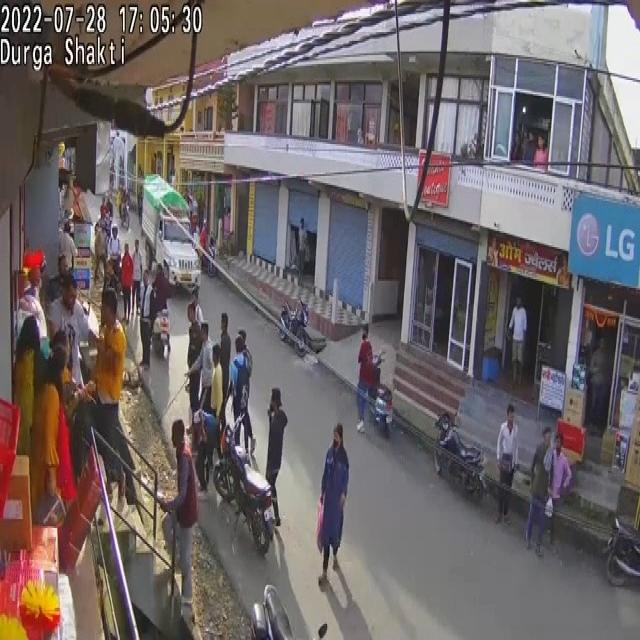fight: (12, 201, 176, 528), (184, 306, 255, 503), (32, 334, 82, 524), (13, 293, 51, 466), (208, 345, 224, 451)
non-fight: (81, 179, 194, 362), (86, 290, 138, 516), (158, 417, 199, 622), (317, 421, 349, 583), (526, 427, 553, 550), (264, 388, 288, 526), (544, 435, 572, 552), (494, 404, 519, 523), (187, 320, 214, 427), (230, 337, 254, 454), (356, 330, 377, 432), (507, 297, 527, 385), (150, 263, 168, 360), (138, 268, 154, 365), (119, 241, 134, 321), (182, 189, 202, 231), (93, 220, 106, 282)
